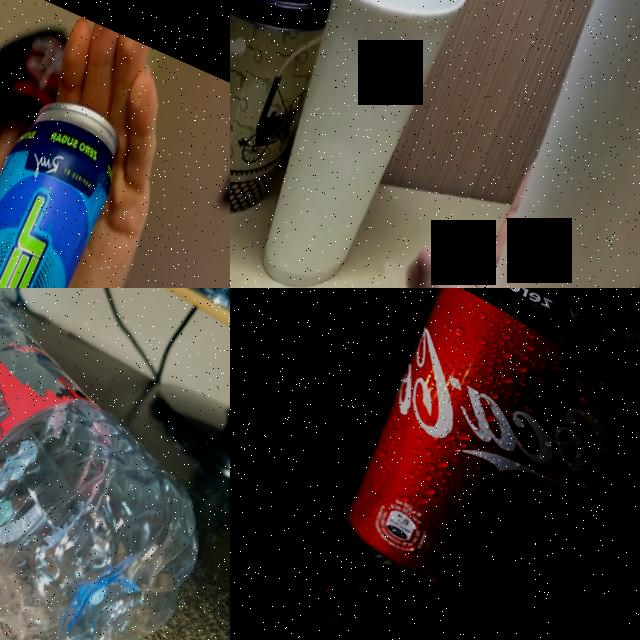bottle: (0, 288, 230, 640)
can: (325, 288, 640, 634), (0, 84, 139, 288)
cup: (230, 0, 479, 288), (424, 0, 640, 288), (230, 0, 369, 242)
